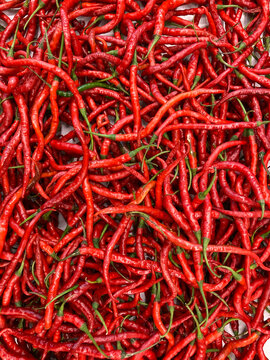Cabai: (58, 60, 219, 308)
